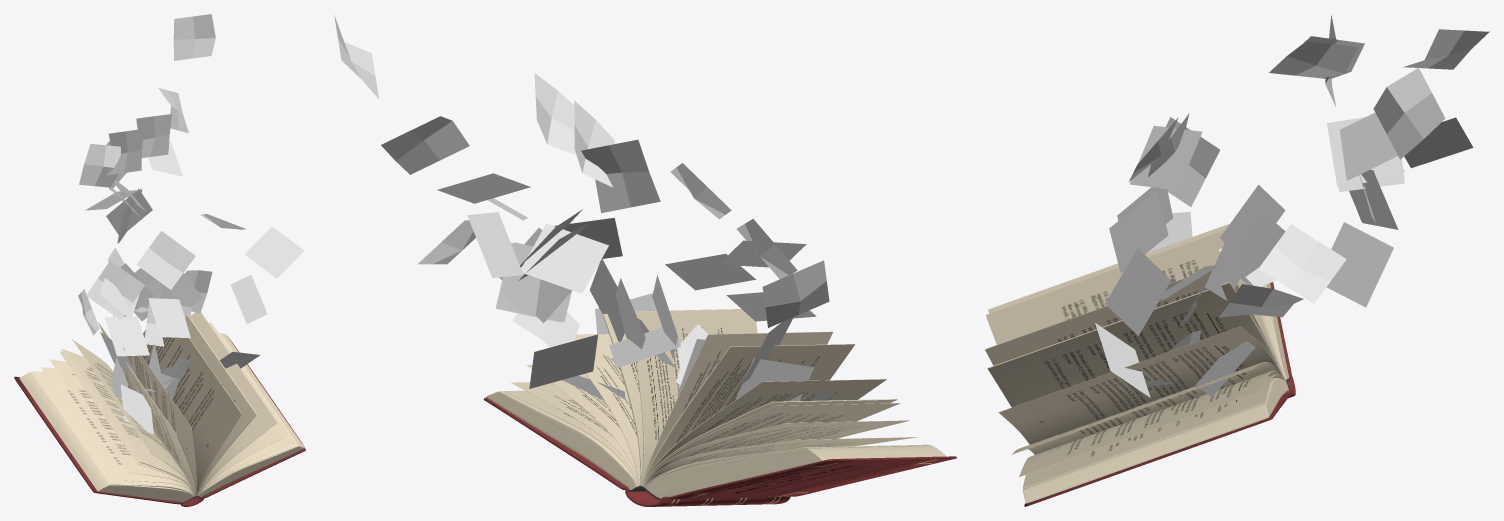
File: Sketchfab_2020_06_24_18_34_00.fbx
3 renders of one model, left to right at view 1: azimuth 30°, elevation 25°; view 2: azimuth 150°, elevation 25°; view 3: azimuth 270°, elevation 25°, orthographic. The views are drawn at different scales.
Parts seen in each view (by area): view 1: page_10, page_1, page_12, page_6, page_4, page_3, page_11, page_9, nation.005, page_2, peace.008, page_7 (+31 smaller); view 2: cover, page_8, page_10, page_1, page_7, peace.002, peace.003, page_16, page_9, page_5, page_4, peace.005 (+32 smaller); view 3: page_11, page_12, page_9, page_16, page_14, peace.005, nation.003, page_15, page_10, peace.007, page_13, war.006 (+21 smaller).
Boxes of the visible parts, bbox=[...] form: page_10: bbox=[142, 330, 241, 494]; page_1: bbox=[19, 372, 193, 502]; page_12: bbox=[190, 312, 277, 495]; page_6: bbox=[61, 349, 195, 495]; page_4: bbox=[49, 359, 194, 495]; page_3: bbox=[41, 367, 194, 495]; page_11: bbox=[181, 305, 256, 495]; page_9: bbox=[113, 315, 197, 494]; nation.005: bbox=[136, 231, 195, 289]; page_2: bbox=[32, 371, 194, 496]; peace.008: bbox=[173, 14, 215, 60]; page_7: bbox=[72, 339, 195, 495]; cover: bbox=[483, 397, 956, 506]; page_8: bbox=[641, 344, 854, 485]; page_10: bbox=[635, 309, 757, 485]; page_1: bbox=[645, 445, 946, 498]; page_7: bbox=[642, 379, 886, 486]; peace.002: bbox=[581, 139, 660, 213]; peace.003: bbox=[521, 223, 608, 293]; page_16: bbox=[486, 390, 636, 489]; page_9: bbox=[641, 331, 832, 485]; page_5: bbox=[643, 403, 900, 486]; page_4: bbox=[643, 420, 909, 486]; peace.005: bbox=[381, 116, 469, 174]; page_11: bbox=[987, 282, 1285, 407]; page_12: bbox=[998, 326, 1285, 444]; page_9: bbox=[986, 230, 1285, 380]; page_16: bbox=[1023, 378, 1288, 503]; page_14: bbox=[1019, 370, 1282, 477]; peace.005: bbox=[1373, 68, 1445, 159]; nation.003: bbox=[1258, 224, 1346, 303]; page_15: bbox=[1023, 374, 1286, 488]; page_10: bbox=[985, 270, 1281, 371]; peace.007: bbox=[1326, 222, 1393, 307]; page_13: bbox=[1012, 362, 1283, 454]; war.006: bbox=[1105, 248, 1170, 335].
Bounding box in the file's own units: 6.33 × 8.48 × 6.9.
